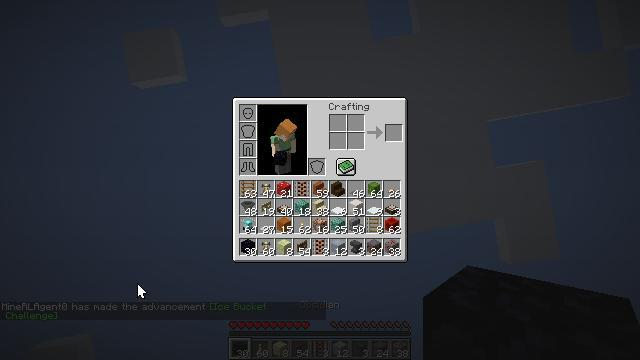cursor: (283, 137, 299, 147)
